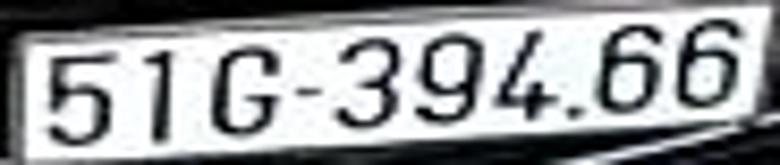-: (289, 82, 326, 100)
.: (561, 100, 590, 128)
1: (141, 47, 175, 149)
3: (333, 38, 404, 133)
4: (489, 27, 561, 122)
5: (44, 49, 118, 150)
6: (592, 22, 669, 119), (674, 18, 746, 110)
9: (416, 30, 482, 129)
G: (205, 42, 284, 142)
